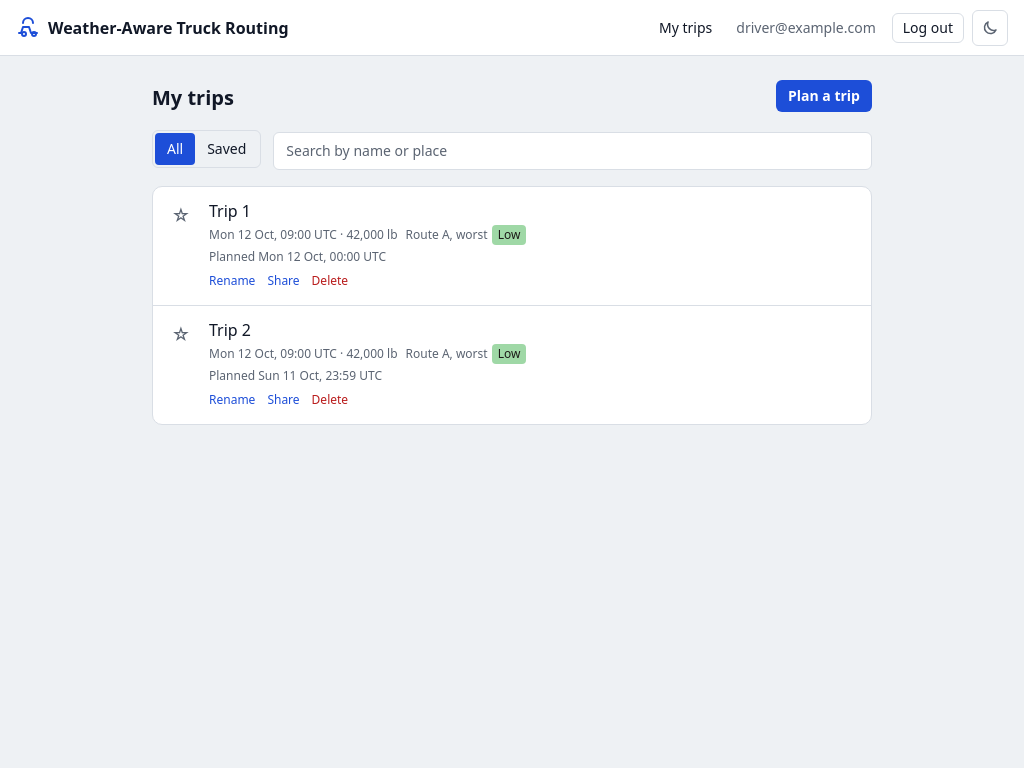
Scenario: My trips › asks before deleting, and Escape keeps the trip
Click the button with aria-label "Delete: Trip 1" at (330, 281), box [312, 269, 348, 293]
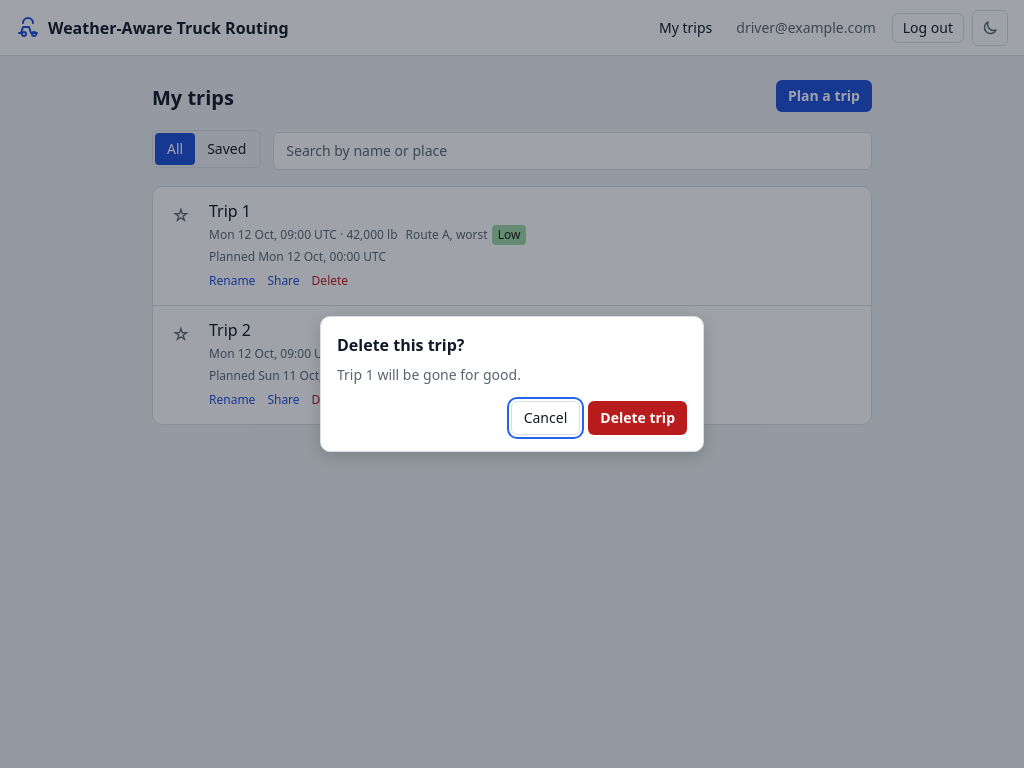
Press Escape
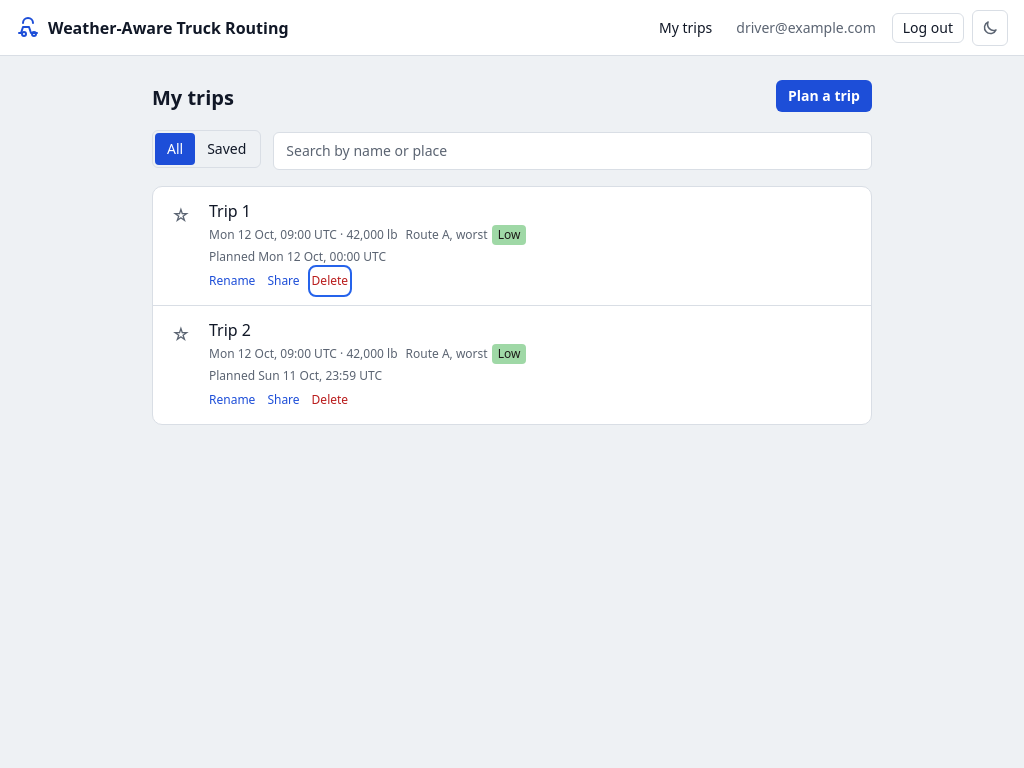
Expected: the dialog is gone
Click the button with aria-label "Delete: Trip 1" at (330, 281), box [312, 269, 348, 293]
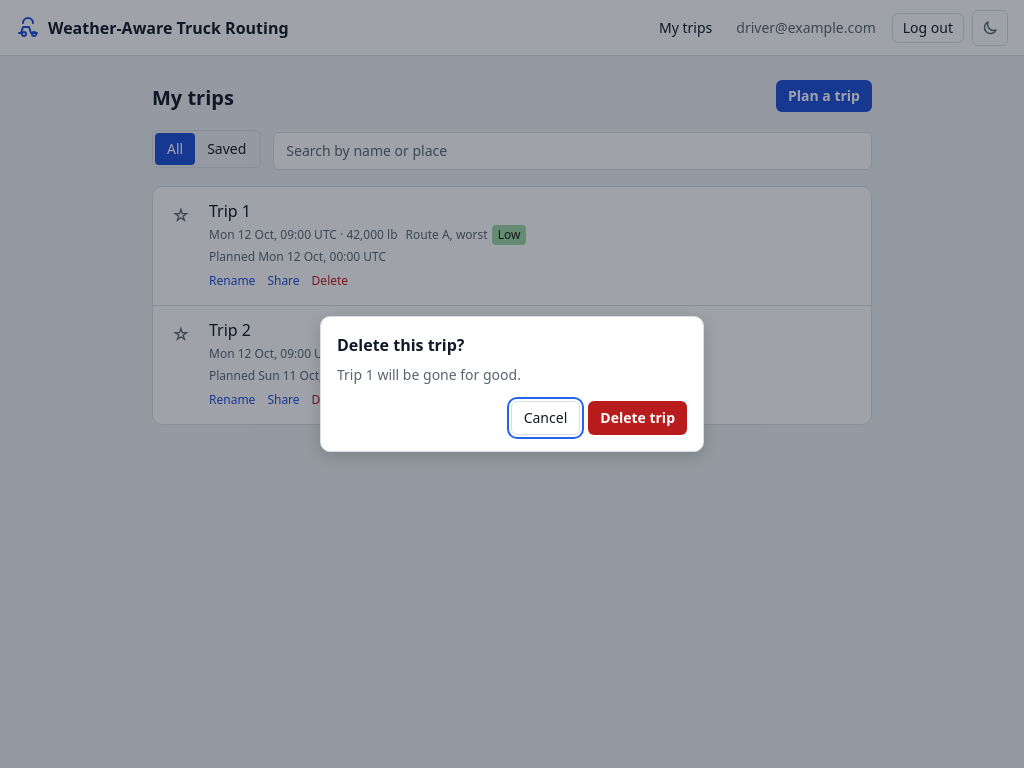
Click the button "Delete trip" at (638, 418), box [588, 401, 687, 435]
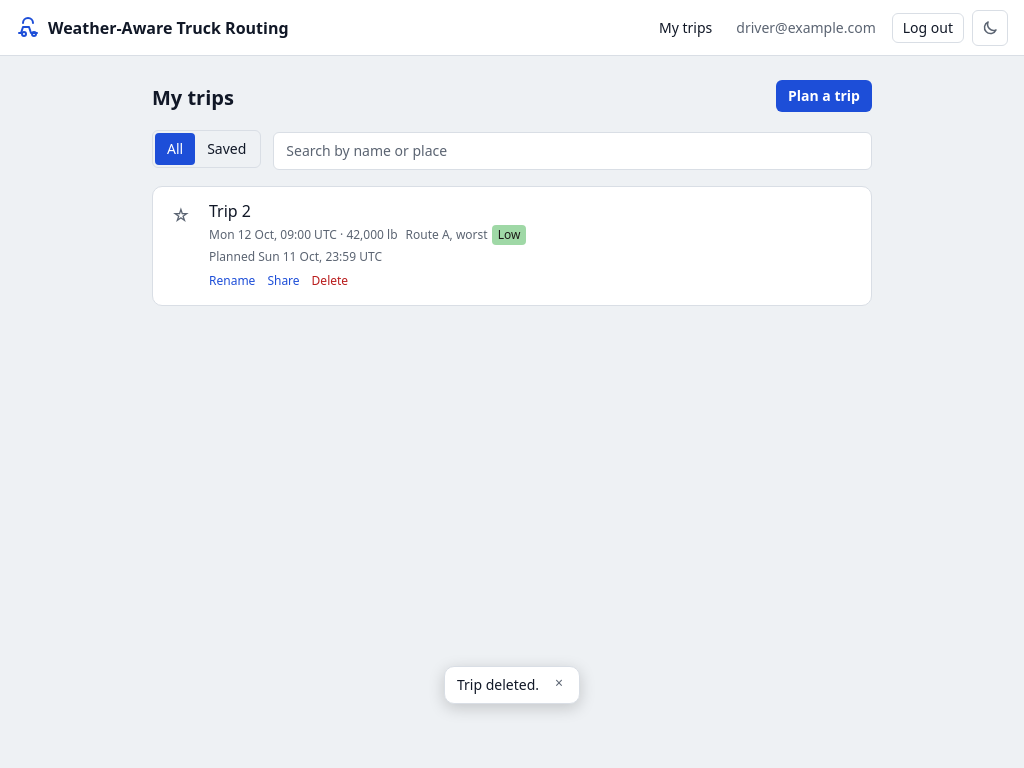
Expected: the list item shows "Trip 2", [209, 199, 859, 245]
Expected: the text "Trip deleted." is shown, [457, 675, 539, 695]
Expected: the number of list items is 1, [165, 199, 526, 293]
